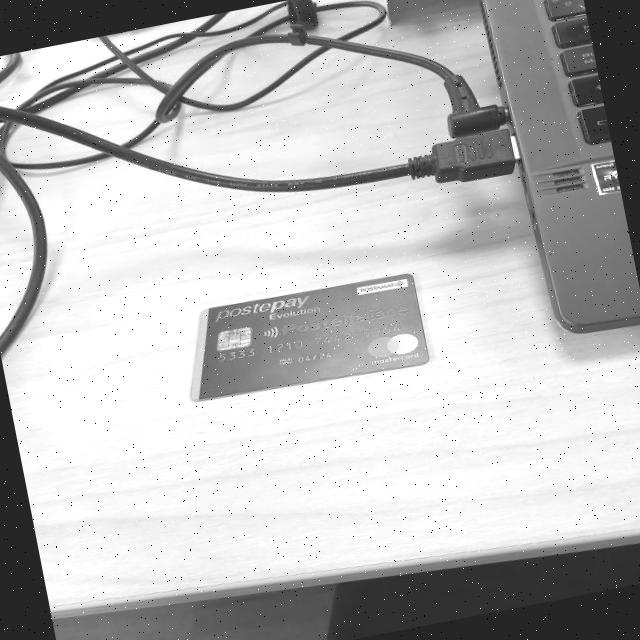card: (192, 273, 431, 404)
